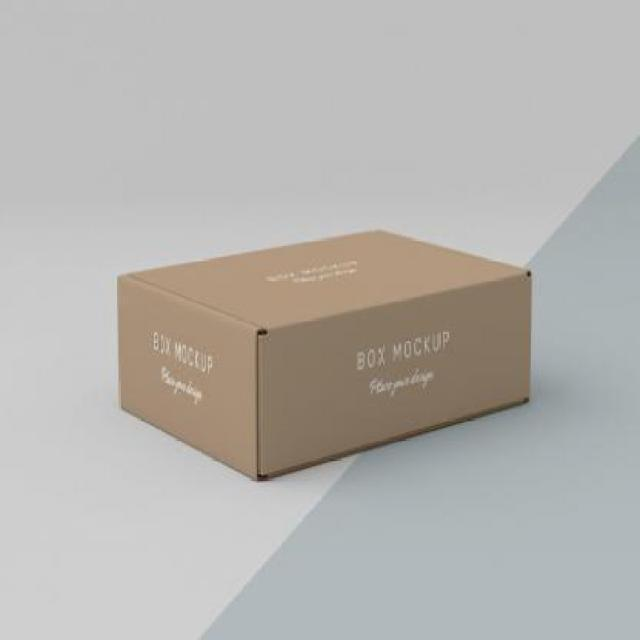box: (108, 223, 537, 482)
